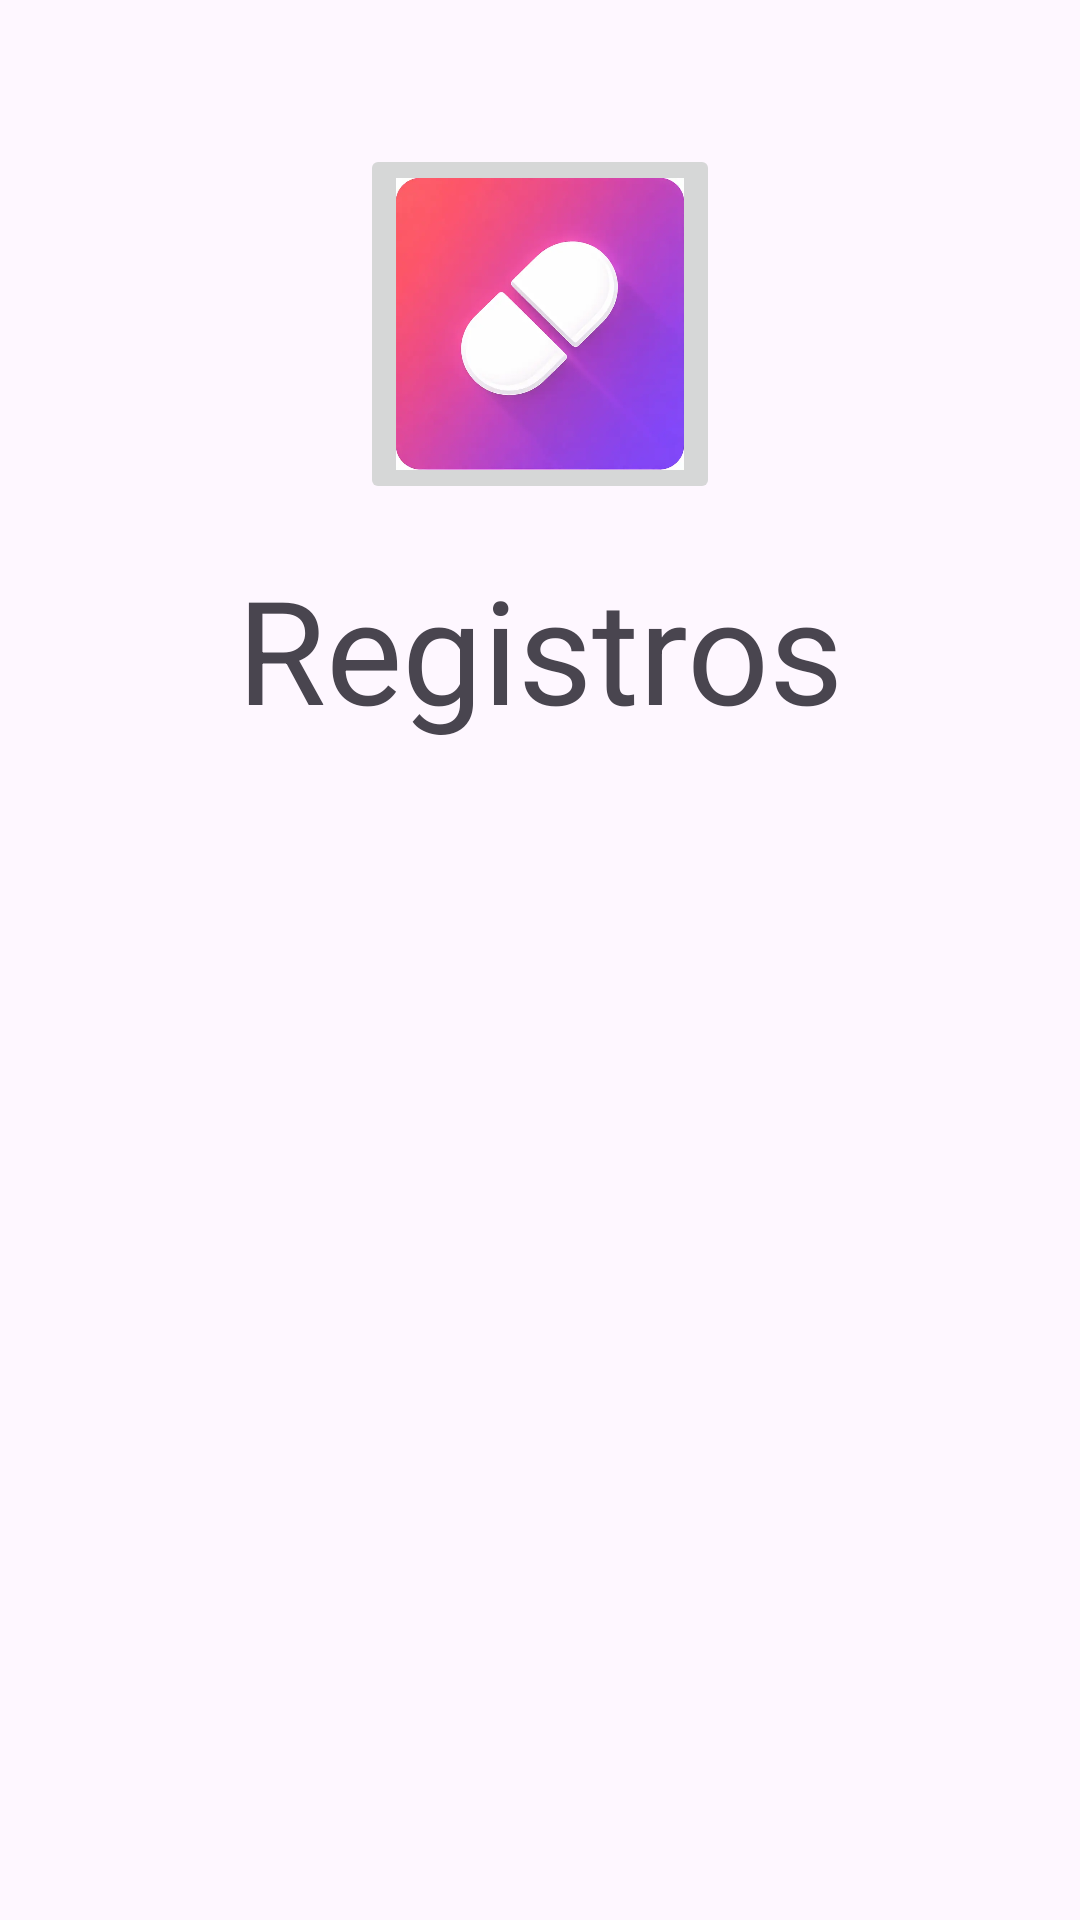

Icon bounding boxes for this 1080 x 1920 phone screenshot, format (x1, y1, x2, y2):
pastilla: (372, 162, 708, 486)
